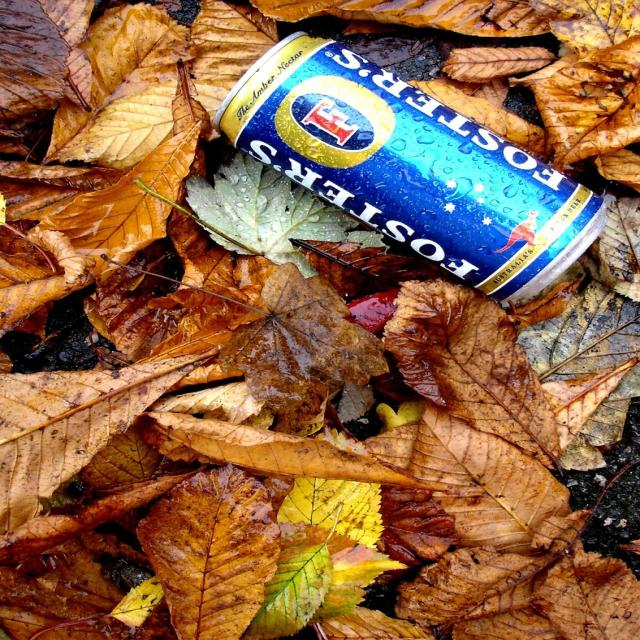fosters: (273, 74, 398, 170)
